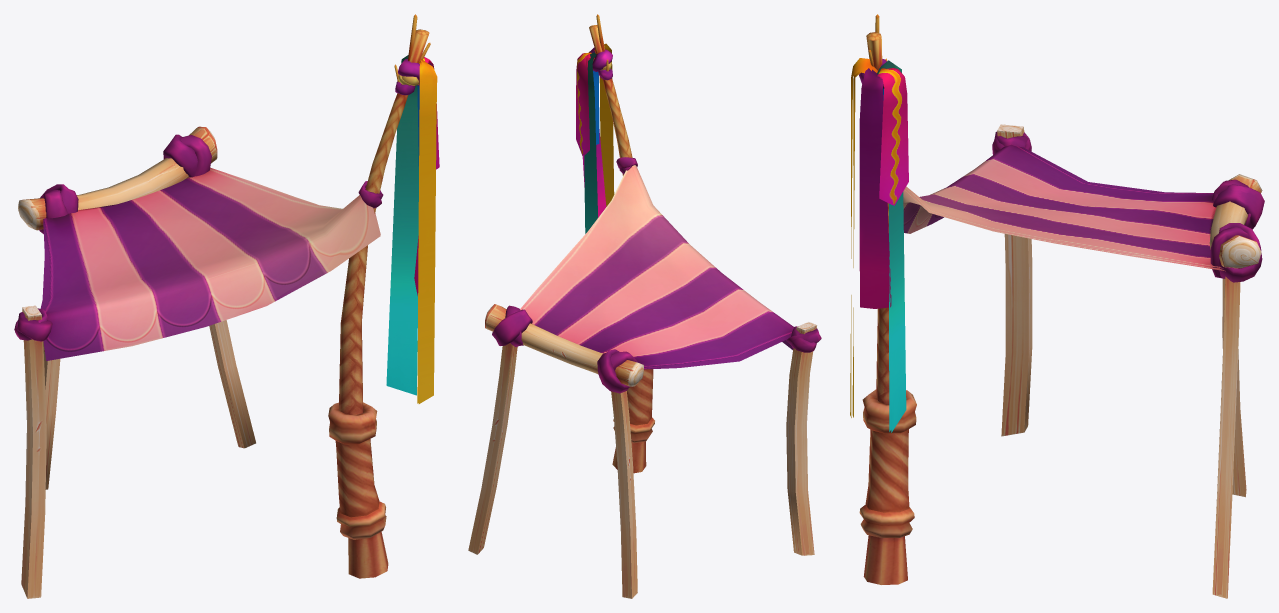
The model's file is SE_Penthouse_01.fbx.
The picture shows the model from 3 angles, left to right: view 1: azimuth 30°, elevation 25°; view 2: azimuth 150°, elevation 25°; view 3: azimuth 270°, elevation 25°; orthographic projection. The views are drawn at different scales.
Visible parts, largest first — view 1: SE_Penthouse_01; view 2: SE_Penthouse_01; view 3: SE_Penthouse_01.
Boxes of the visible parts, x1,y1,x2,y2 form: SE_Penthouse_01: [14, 14, 439, 598]; SE_Penthouse_01: [468, 14, 821, 598]; SE_Penthouse_01: [850, 14, 1264, 598].
Bounding box in the file's own units: 7.27 × 10.57 × 6.71.
